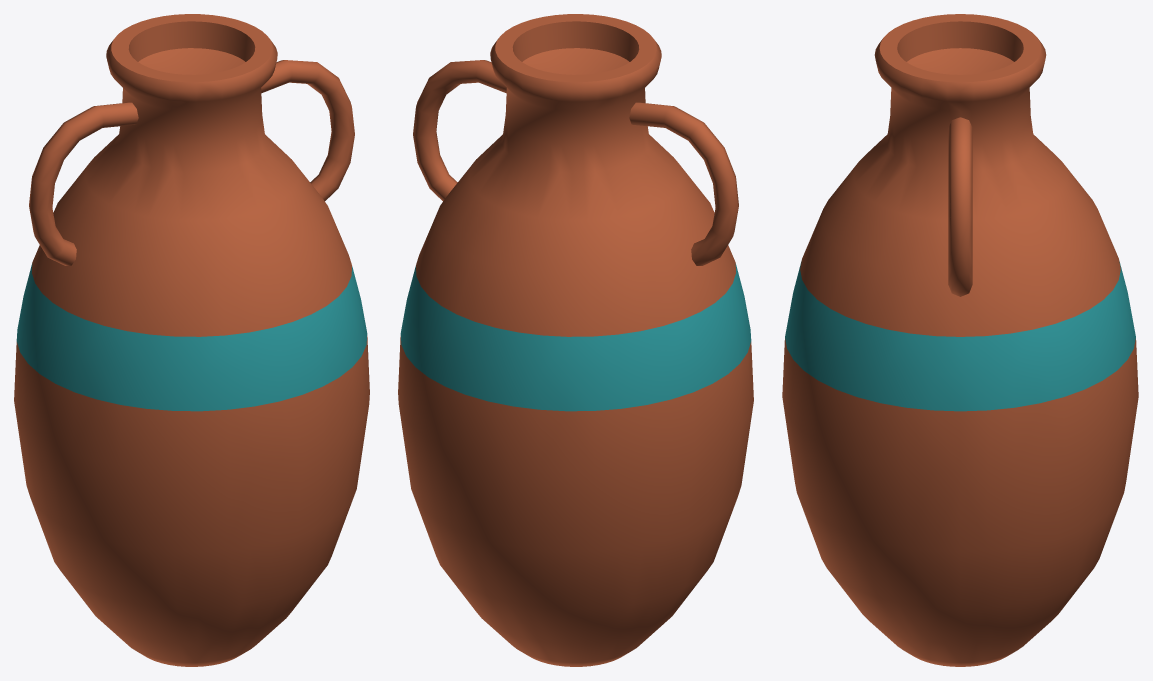
File: P_JarTall.fbx
The picture shows the model from 3 angles, left to right: view 1: azimuth 30°, elevation 25°; view 2: azimuth 150°, elevation 25°; view 3: azimuth 270°, elevation 25°; orthographic projection.
Parts seen in each view (by area): view 1: P_JarTall; view 2: P_JarTall; view 3: P_JarTall.
Part boxes in pixels (bbox=[...]): P_JarTall: bbox=[14, 14, 369, 666]; P_JarTall: bbox=[398, 14, 753, 666]; P_JarTall: bbox=[782, 14, 1138, 666].
Bounding box in the file's own units: 0.3985 × 0.7 × 0.38.
